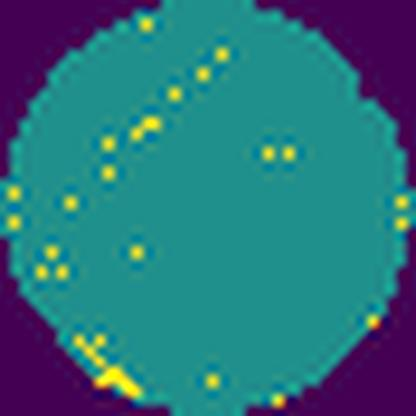Edge-Loc: (72, 326, 147, 408)
